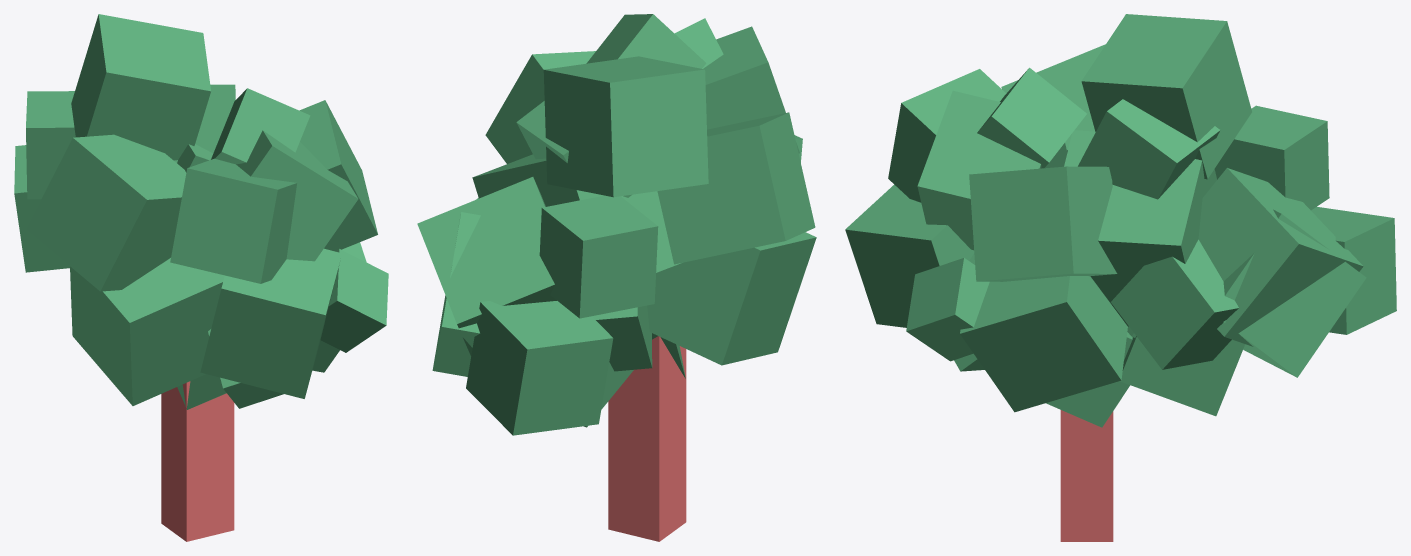
File: Bush1.fbx
3 renders of one model, left to right at view 1: azimuth 30°, elevation 25°; view 2: azimuth 150°, elevation 25°; view 3: azimuth 270°, elevation 25°, orthographic. The views are drawn at different scales.
Parts seen in each view (by area): view 1: Cube, Cube__10_, Cube__18_, Cube__20_, Cube__23_, Stam, Cube__2_, Cube__21_, Cube__3_, Cube__5_, Cube__16_, Cube__17_ (+5 smaller); view 2: Cube__10_, Cube__17_, Cube, Cube__18_, Stam, Cube__13_, Cube__16_, Cube__23_, Cube__14_, Cube__3_, Cube__5_, Cube__9_ (+4 smaller); view 3: Cube__22_, Cube__10_, Cube__3_, Cube__13_, Cube__12_, Cube__14_, Cube__20_, Cube__2_, Cube__16_, Cube__9_, Cube__1_, Stam (+7 smaller).
Boxes of the visible parts, x1,y1,x2,y2 form: Cube: (26,134,186,291); Cube__10_: (71,14,211,160); Cube__18_: (70,258,224,405); Cube__20_: (200,248,341,398); Cube__23_: (170,158,296,283); Stam: (161,381,234,541); Cube__2_: (236,130,358,261); Cube__21_: (320,249,388,352); Cube__3_: (299,100,377,251); Cube__5_: (211,88,310,164); Cube__16_: (26,91,75,199); Cube__17_: (14,145,69,272); Cube__10_: (543,56,708,197); Cube__17_: (466,301,613,435); Cube: (657,112,815,264); Cube__18_: (647,232,816,365); Stam: (608,336,686,541); Cube__13_: (417,177,556,356); Cube__16_: (539,195,658,318); Cube__23_: (703,26,799,153); Cube__14_: (472,154,681,272); Cube__3_: (485,51,595,163); Cube__5_: (586,14,706,68); Cube__9_: (432,212,480,376); Cube__22_: (960,253,1127,412); Cube__10_: (1081,14,1251,179); Cube__3_: (969,166,1117,281); Cube__13_: (1198,168,1363,346); Cube__12_: (1111,239,1238,369); Cube__14_: (1064,130,1216,326); Cube__20_: (845,184,974,327); Cube__2_: (917,90,1067,250); Cube__16_: (1214,105,1329,210); Cube__9_: (1223,209,1366,377); Cube__1_: (1078,99,1220,199); Stam: (1060,410,1113,541).
Bounding box in the file's own units: 45.7 × 66.73 × 67.77.
